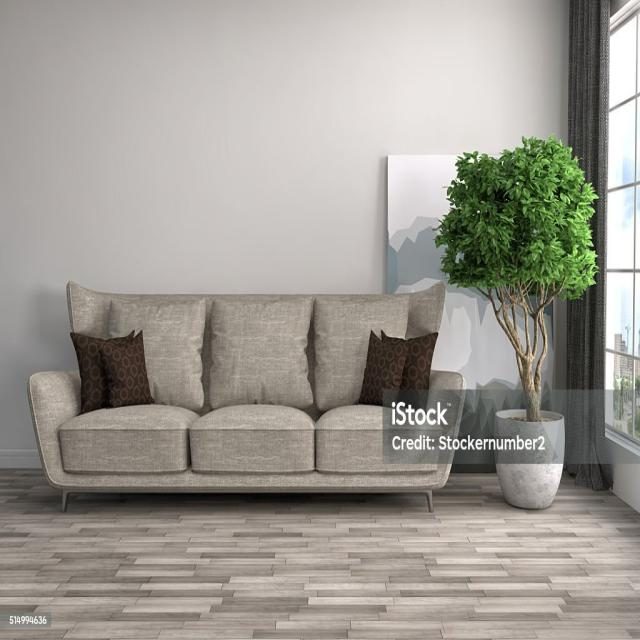back_cushion: (69, 283, 443, 411)
base: (61, 469, 446, 491)
left_arm: (427, 369, 464, 472)
legs: (61, 491, 69, 511), (426, 496, 432, 512), (427, 491, 432, 496)
right_arm: (28, 371, 79, 487)
seat_cushion: (58, 405, 401, 474)
stallion-sofa1: (28, 282, 464, 510)
